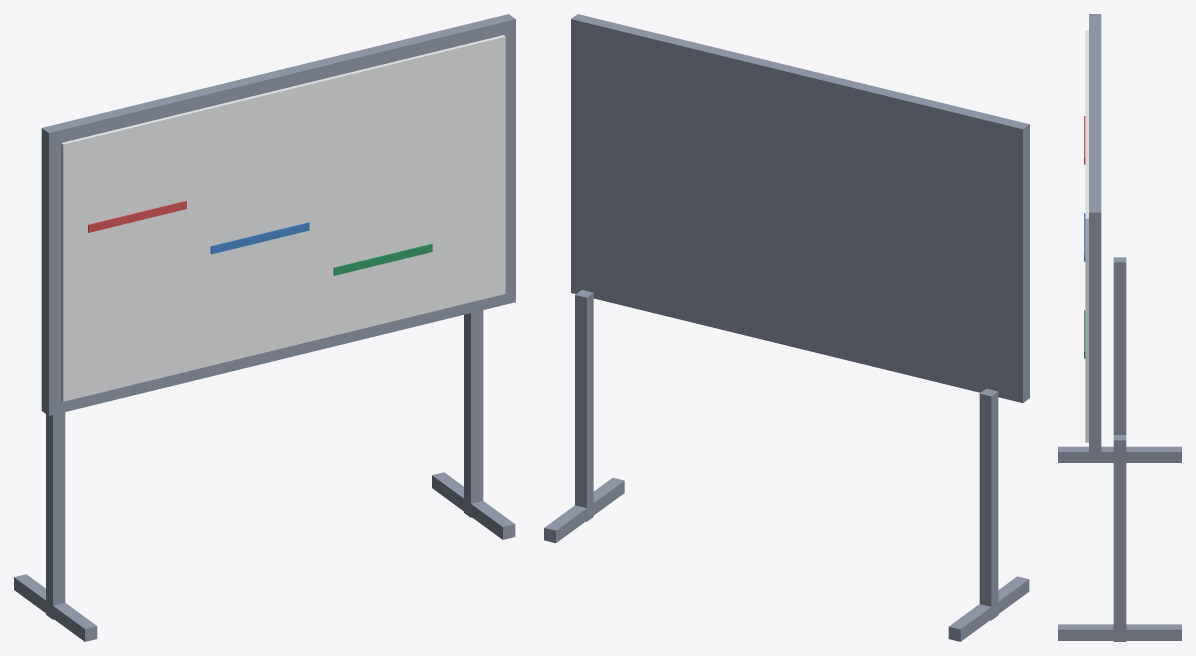
Rendered from whiteboard.glb.
3 renders of one model, left to right at view 1: azimuth 30°, elevation 25°; view 2: azimuth 150°, elevation 25°; view 3: azimuth 270°, elevation 25°, orthographic. The views are drawn at different scales.
Visible parts, largest first — view 1: board, frame, leg.001, leg, foot.001, foot, ink.001, ink.002, ink; view 2: frame, leg, leg.001, foot, foot.001; view 3: frame, leg.001, leg, foot.001, foot, board.
Boxes of the visible parts, x1=… form: board: x1=61, y1=35, x2=505, y2=401; frame: x1=41, y1=14, x2=515, y2=415; leg.001: x1=464, y1=310, x2=483, y2=517; leg: x1=46, y1=412, x2=65, y2=619; foot.001: x1=432, y1=472, x2=515, y2=539; foot: x1=14, y1=574, x2=97, y2=641; ink.001: x1=210, y1=222, x2=309, y2=254; ink.002: x1=333, y1=243, x2=432, y2=275; ink: x1=88, y1=201, x2=186, y2=232; frame: x1=571, y1=14, x2=1029, y2=402; leg: x1=979, y1=388, x2=998, y2=620; leg.001: x1=575, y1=290, x2=593, y2=521; foot: x1=948, y1=576, x2=1029, y2=641; foot.001: x1=544, y1=478, x2=624, y2=543; frame: x1=1089, y1=14, x2=1101, y2=459; leg.001: x1=1113, y1=435, x2=1126, y2=641; leg: x1=1113, y1=257, x2=1126, y2=434; foot.001: x1=1058, y1=624, x2=1181, y2=640; foot: x1=1058, y1=446, x2=1181, y2=462; board: x1=1085, y1=30, x2=1088, y2=442.
Bounding box in the file's own units: 1.9 × 1.95 × 0.5.
